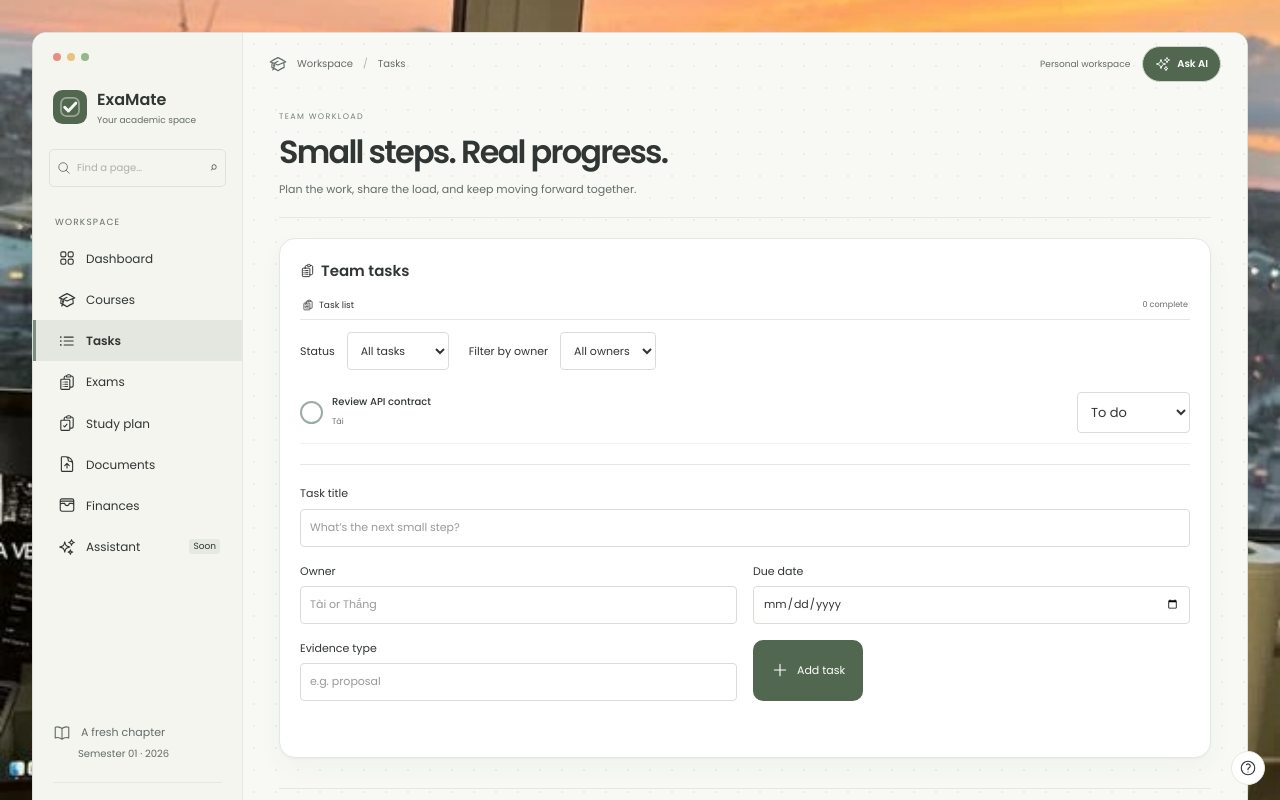
Scenario: Academic workspace › keeps tasks intact on a failed status update
This screenshot has width=1280, height=800.
Expected: the text "Review API contract" is shown, [332,394,431,410]
Select "Done" in the dropdown named "Status for Review API contract" at (1134, 413), box [1077,392,1190,433]
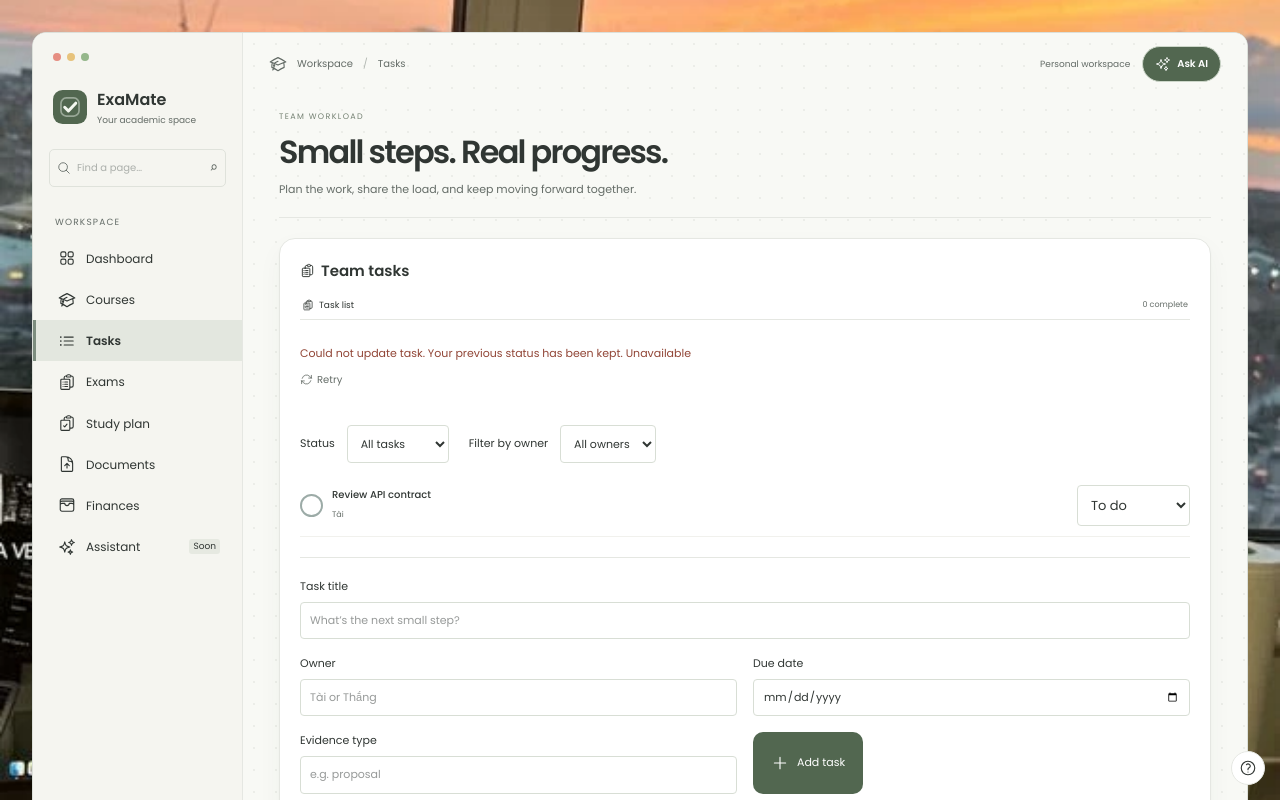
Now the message shows "Your previous status has been kept", box [300,345,691,361]
